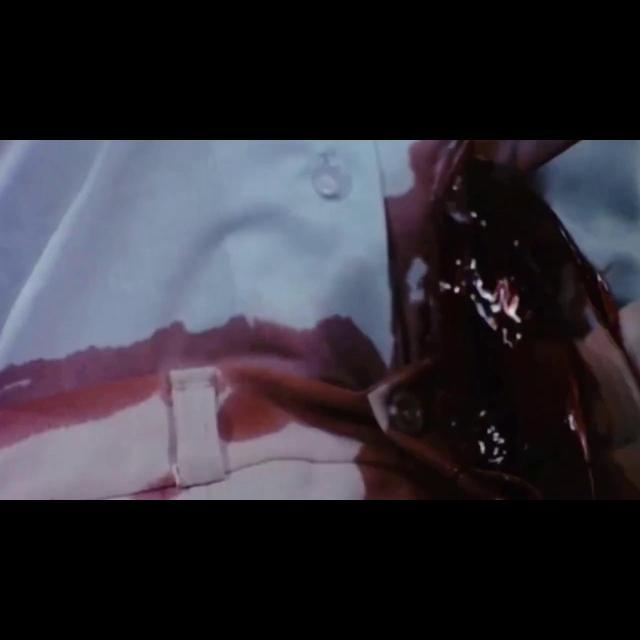blood: (0, 140, 640, 500), (136, 472, 178, 500)
